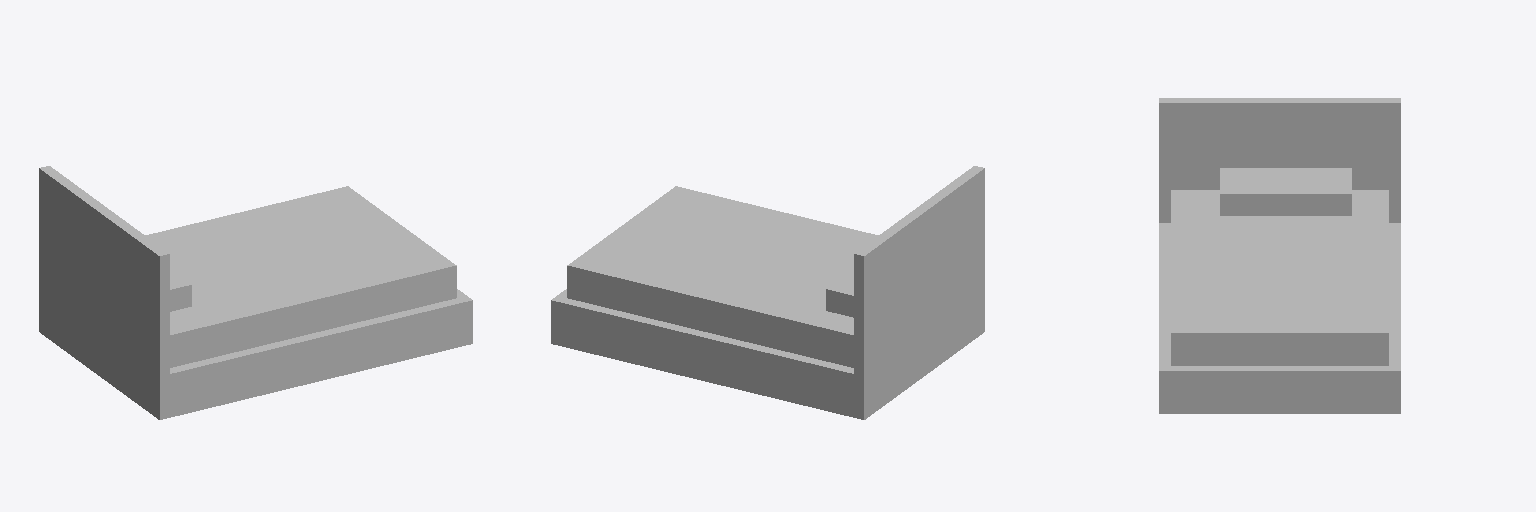
The model's file is bed.obj.
3 renders of one model, left to right at view 1: azimuth 30°, elevation 25°; view 2: azimuth 150°, elevation 25°; view 3: azimuth 270°, elevation 25°, orthographic.
Bounding box in the file's own units: 30 × 15 × 20.